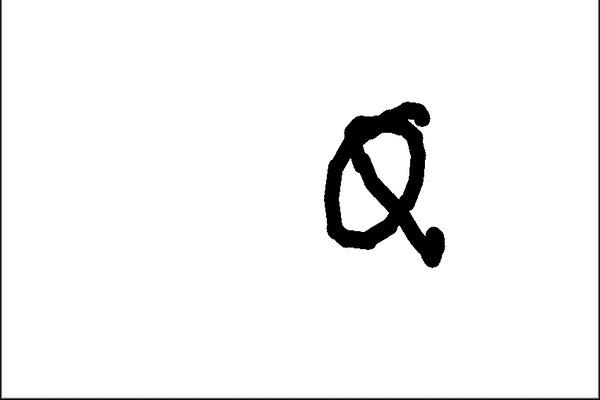Q: (305, 91, 453, 275)
